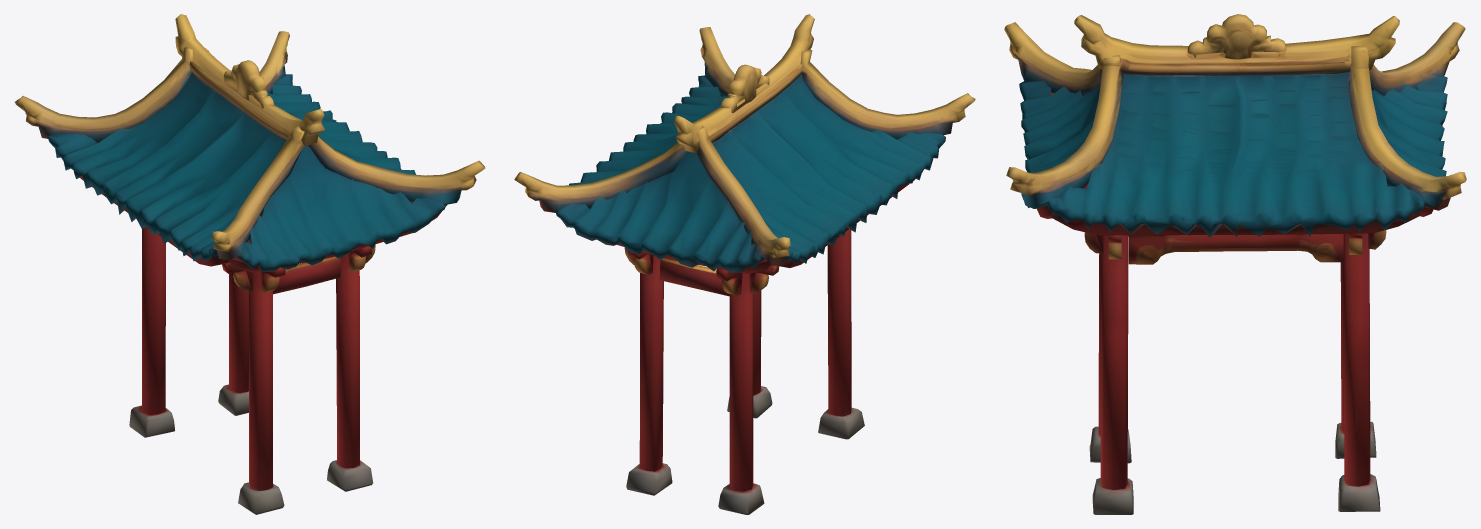
File: mountain-shrine-gate.glb
3 renders of one model, left to right at view 1: azimuth 30°, elevation 25°; view 2: azimuth 150°, elevation 25°; view 3: azimuth 270°, elevation 25°, orthographic. The views are drawn at different scales.
Visible parts, largest first — view 1: tripo_node_0c4f080d-764a-4bc6-aaac-1b500023cebb; view 2: tripo_node_0c4f080d-764a-4bc6-aaac-1b500023cebb; view 3: tripo_node_0c4f080d-764a-4bc6-aaac-1b500023cebb.
Boxes of the visible parts, box(x1,y1,x2,y2) form: tripo_node_0c4f080d-764a-4bc6-aaac-1b500023cebb: box(14, 14, 485, 514); tripo_node_0c4f080d-764a-4bc6-aaac-1b500023cebb: box(514, 14, 975, 514); tripo_node_0c4f080d-764a-4bc6-aaac-1b500023cebb: box(1004, 14, 1466, 514).
Size of the model in its own units: 0.7402 by 0.998 by 0.9004.
1 material, 1 textured.
